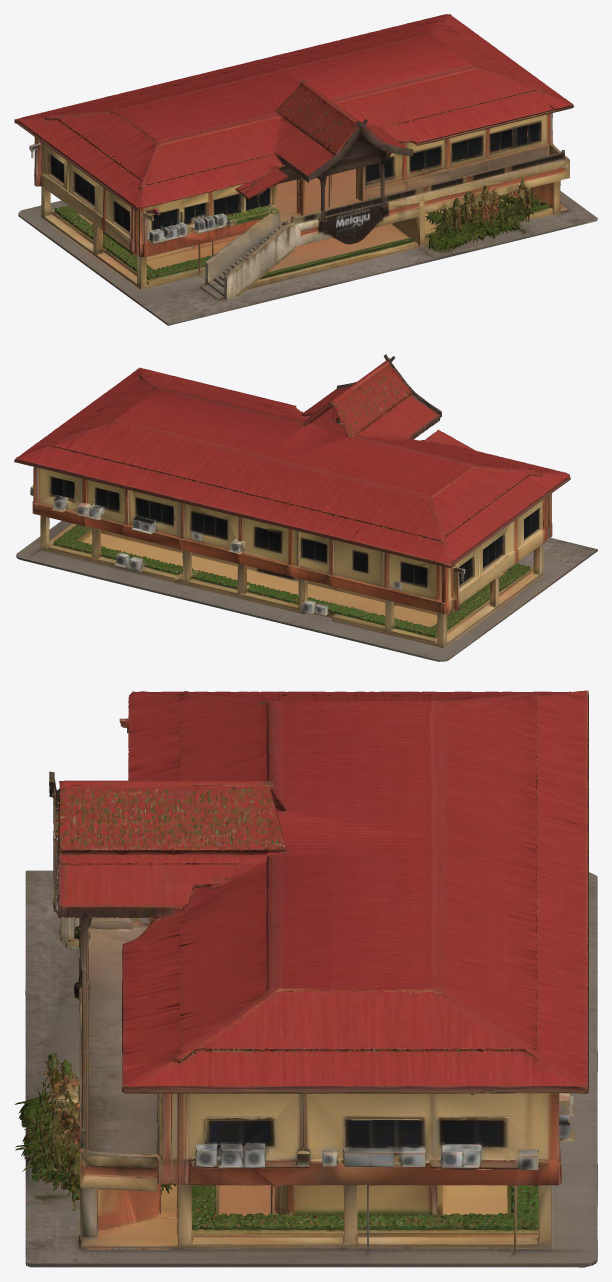
File: malay_world_ethnological_museum.glb
The picture shows the model from 3 angles, top to bottom: view 1: azimuth 30°, elevation 25°; view 2: azimuth 150°, elevation 25°; view 3: azimuth 270°, elevation 25°; orthographic projection. The views are drawn at different scales.
Parts seen in each view (by area): view 1: Meshy_AI_Melayu_Heritage_Hall_0813181216_texture.001; view 2: Meshy_AI_Melayu_Heritage_Hall_0813181216_texture.001; view 3: Meshy_AI_Melayu_Heritage_Hall_0813181216_texture.001.
Boxes of the visible parts, x1,y1,x2,y2 form: Meshy_AI_Melayu_Heritage_Hall_0813181216_texture.001: [14, 14, 597, 325]; Meshy_AI_Melayu_Heritage_Hall_0813181216_texture.001: [14, 354, 597, 661]; Meshy_AI_Melayu_Heritage_Hall_0813181216_texture.001: [15, 690, 597, 1267].
Size of the model in its own units: 1.9 by 0.6301 by 1.18.
1 material, 1 textured.
